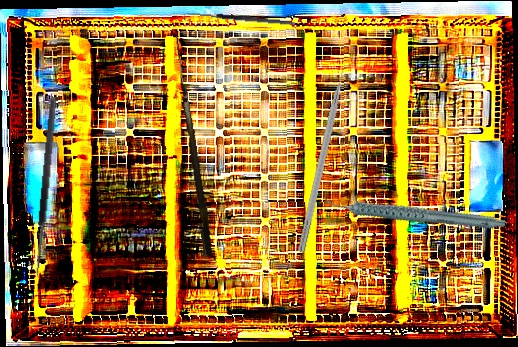Chopper: (297, 57, 360, 255)
Handpiece: (322, 157, 507, 266)
Hook Surgical: (165, 36, 217, 257), (32, 96, 67, 280), (183, 11, 296, 31)
